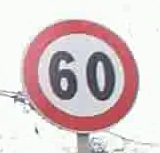limite 60: (20, 16, 138, 131)
